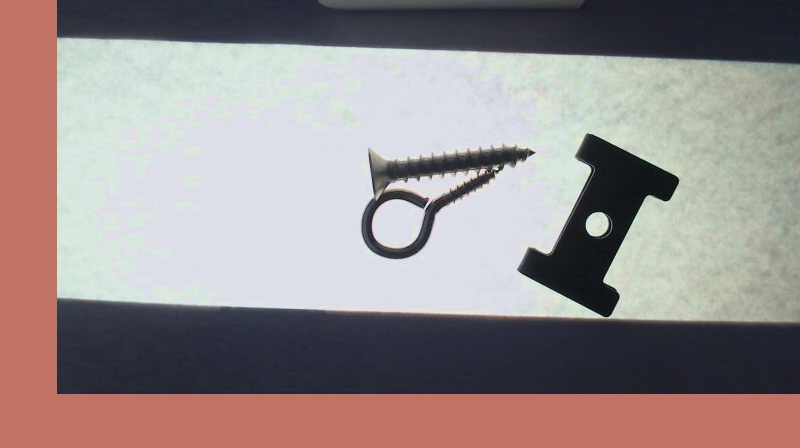O001: (359, 168, 500, 259)
O002: (516, 132, 678, 315)
S001: (366, 144, 535, 199)
